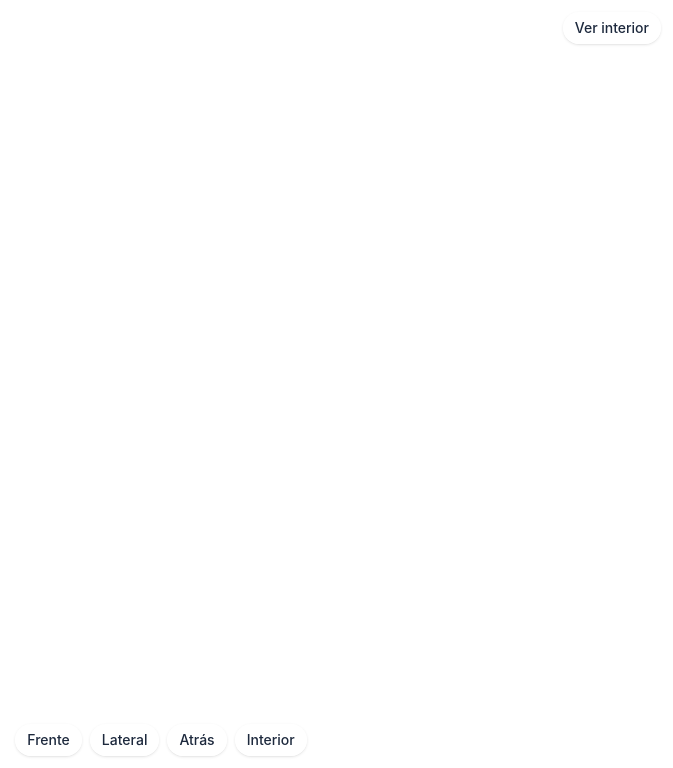
Test: ViewControls › "Ver interior" entra al auto y el botón cambia a "Ver exterior"
Click the button "Ver interior": click(612, 28) [563, 12, 661, 44]
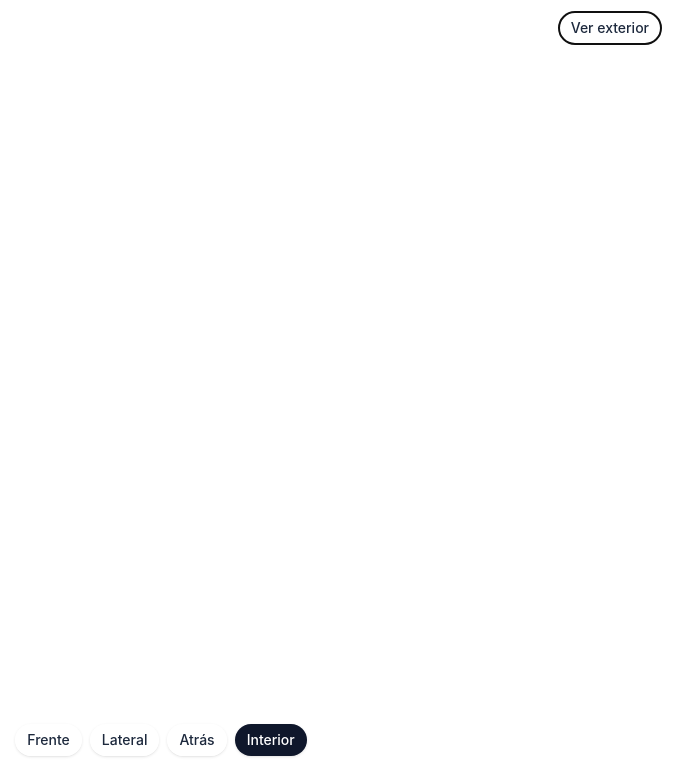
Now the button "Ver exterior" is shown, box [559, 12, 661, 44]
